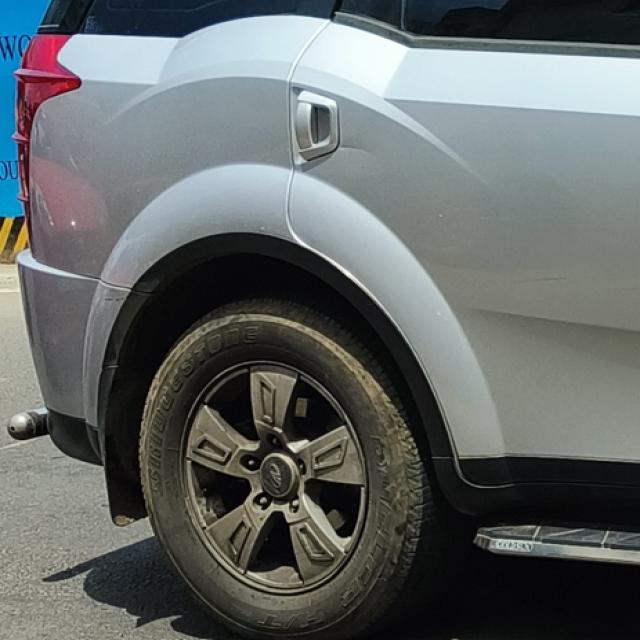scratch: (512, 269, 581, 291), (89, 274, 131, 310)
